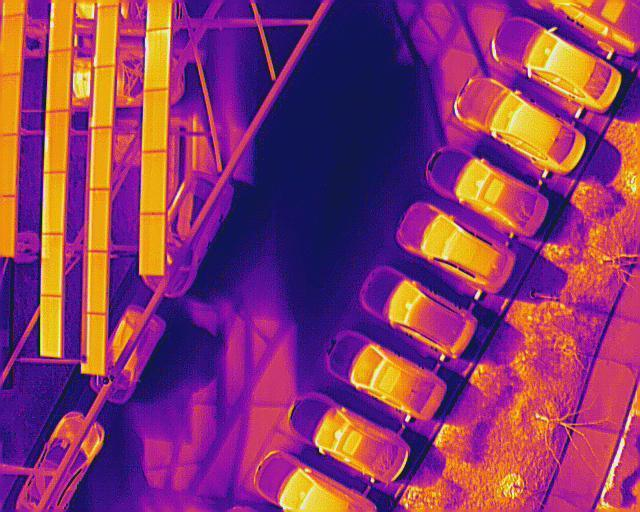No-Anomaly: (142, 84, 169, 154), (142, 148, 169, 217), (84, 248, 110, 315), (140, 211, 166, 276), (88, 126, 113, 193), (87, 187, 112, 253), (90, 63, 115, 128), (94, 4, 118, 69), (0, 14, 25, 75), (47, 48, 70, 114), (41, 234, 64, 297), (40, 295, 62, 358), (87, 314, 108, 375)
Unclassified: (143, 26, 171, 93), (42, 170, 67, 236), (44, 108, 69, 173), (49, 0, 72, 53)
